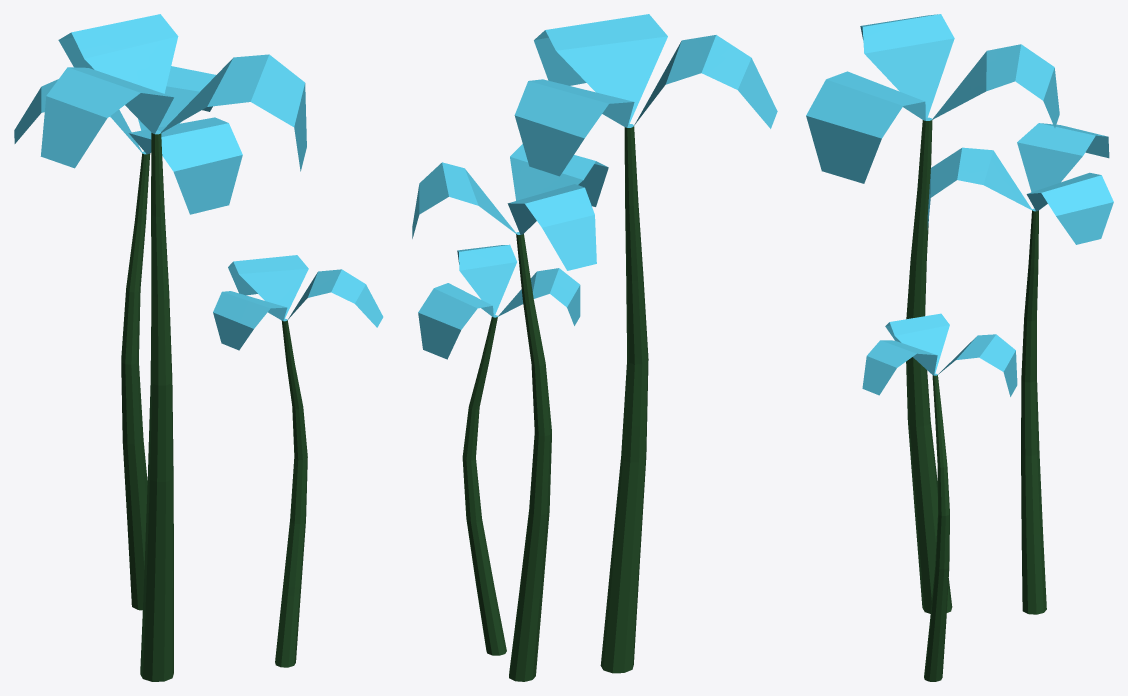
File: Plant_2b.fbx
3 renders of one model, left to right at view 1: azimuth 30°, elevation 25°; view 2: azimuth 150°, elevation 25°; view 3: azimuth 270°, elevation 25°, orthographic. The views are drawn at different scales.
Visible parts, largest first — view 1: Circle.002; view 2: Circle.002; view 3: Circle.002.
Boxes of the visible parts, x1,y1,x2,y2 form: Circle.002: (14,14,383,681); Circle.002: (412,14,777,681); Circle.002: (806,14,1113,681).
Bounding box in the file's own units: 79.42 × 148 × 72.38.
